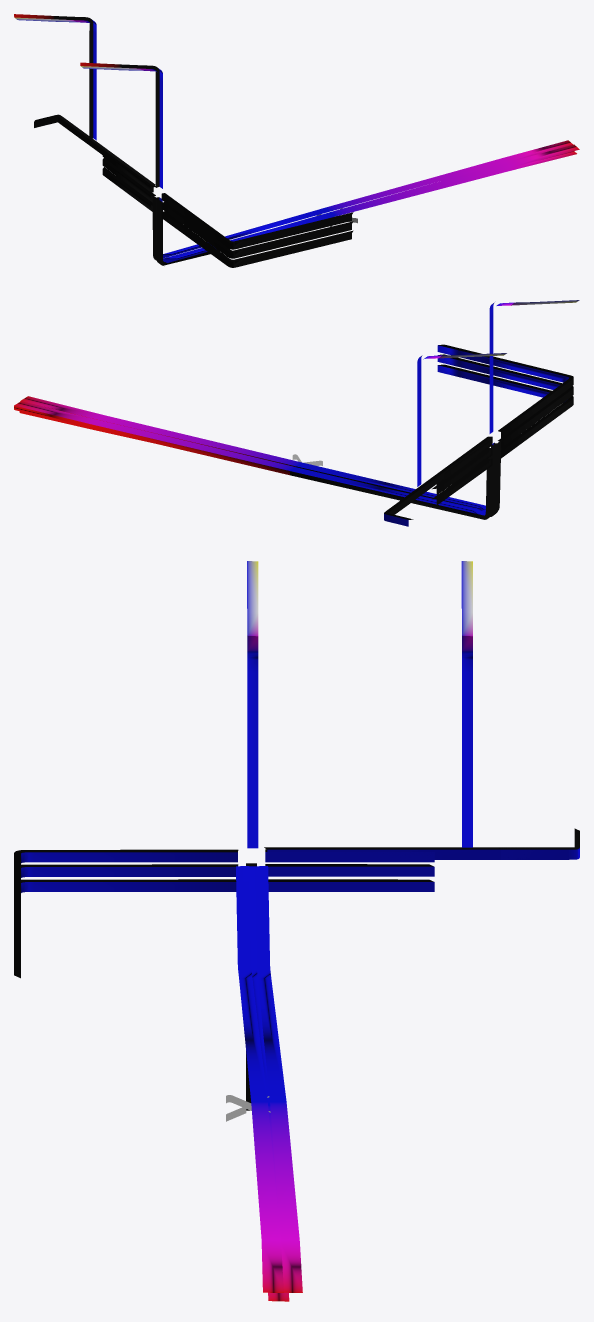
File: ModernPowerflow.glb
3 views of the same model, one above another, from view 1: azimuth 30°, elevation 25°; view 2: azimuth 150°, elevation 25°; view 3: azimuth 270°, elevation 25° (orthographic). The views are drawn at different scales.
Parts seen in each view (by area): view 1: PowerflowGrid-2-B, PowerflowGrid-2-A, PowerflowLoad-3-C, PowerflowSolarMeter-1-A, PowerflowLoad-1-A, PowerflowSolarBattery-1-A, PowerflowLoad-2-B, PowerflowGrid-1-A, PowerflowLoad-3-B, PowerflowLoad-3-A, PowerflowVehiclePowershare-1-A, PowerflowBatteryWithInverter-3-C (+2 smaller); view 2: PowerflowGrid-2-B, PowerflowGrid-2-A, PowerflowLoad-3-C, PowerflowLoad-1-A, PowerflowLoad-2-B, PowerflowLoad-3-B, PowerflowLoad-3-A, PowerflowSolarBattery-1-A, PowerflowSolarMeter-1-A, PowerflowVehiclePowershare-1-A, PowerflowGrid-1-A, PowerflowBatteryWithInverter-3-C (+3 smaller); view 3: PowerflowGrid-2-B, PowerflowGrid-2-A, PowerflowLoad-1-A, PowerflowSolarMeter-1-A, PowerflowSolarBattery-1-A, PowerflowLoad-3-C, PowerflowLoad-2-B, PowerflowBatteryWithInverter-2-B, PowerflowBatteryWithInverter-3-C, PowerflowVehiclePowershare-1-A, PowerflowBatteryWithInverter-1-A, PowerflowGrid-1-A (+1 smaller).
Boxes of the visible parts, left/top/right/bottom form: PowerflowGrid-2-B: left=152, top=140, right=572, bottom=260; PowerflowGrid-2-A: left=158, top=144, right=579, bottom=265; PowerflowLoad-3-C: left=161, top=211, right=353, bottom=267; PowerflowSolarMeter-1-A: left=80, top=62, right=162, bottom=188; PowerflowLoad-1-A: left=161, top=193, right=353, bottom=249; PowerflowSolarBattery-1-A: left=14, top=14, right=96, bottom=140; PowerflowLoad-2-B: left=161, top=202, right=352, bottom=258; PowerflowGrid-1-A: left=156, top=151, right=576, bottom=264; PowerflowLoad-3-B: left=161, top=202, right=353, bottom=258; PowerflowLoad-3-A: left=161, top=193, right=351, bottom=249; PowerflowVehiclePowershare-1-A: left=59, top=116, right=155, bottom=192; PowerflowBatteryWithInverter-3-C: left=102, top=167, right=153, bottom=211; PowerflowGrid-2-B: left=14, top=401, right=494, bottom=519; PowerflowGrid-2-A: left=20, top=396, right=501, bottom=509; PowerflowLoad-3-C: left=437, top=364, right=573, bottom=458; PowerflowLoad-1-A: left=437, top=344, right=573, bottom=436; PowerflowLoad-2-B: left=437, top=354, right=573, bottom=447; PowerflowLoad-3-B: left=437, top=354, right=573, bottom=448; PowerflowLoad-3-A: left=437, top=346, right=573, bottom=438; PowerflowSolarBattery-1-A: left=417, top=353, right=506, bottom=486; PowerflowSolarMeter-1-A: left=489, top=300, right=579, bottom=433; PowerflowVehiclePowershare-1-A: left=387, top=436, right=492, bottom=512; PowerflowGrid-1-A: left=19, top=411, right=498, bottom=516; PowerflowBatteryWithInverter-3-C: left=432, top=458, right=492, bottom=505; PowerflowGrid-2-B: left=254, top=866, right=302, bottom=1292; PowerflowGrid-2-A: left=236, top=866, right=283, bottom=1292; PowerflowLoad-1-A: left=14, top=849, right=238, bottom=947; PowerflowSolarMeter-1-A: left=247, top=561, right=258, bottom=848; PowerflowSolarBattery-1-A: left=461, top=561, right=472, bottom=847; PowerflowLoad-3-C: left=14, top=879, right=236, bottom=978; PowerflowLoad-2-B: left=14, top=864, right=238, bottom=960; PowerflowBatteryWithInverter-2-B: left=265, top=864, right=434, bottom=876; PowerflowBatteryWithInverter-3-C: left=268, top=879, right=434, bottom=891; PowerflowVehiclePowershare-1-A: left=264, top=847, right=572, bottom=859; PowerflowBatteryWithInverter-1-A: left=265, top=849, right=434, bottom=862; PowerflowGrid-1-A: left=243, top=866, right=289, bottom=1301.
Bounding box in the file's own units: 1.46 × 0.6088 × 0.8767.
